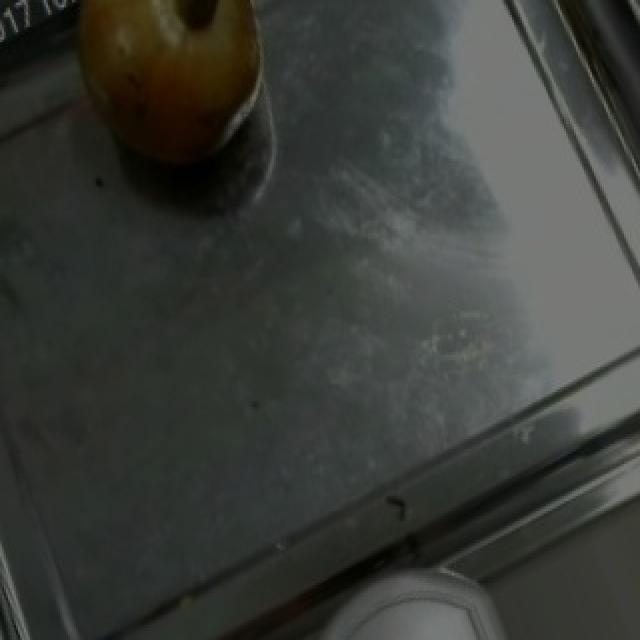fruit: (46, 0, 294, 186)
